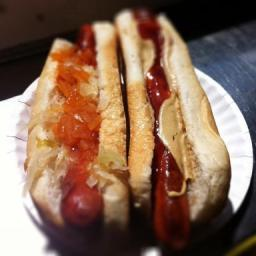hotdog: (138, 13, 190, 251), (62, 24, 100, 234)
